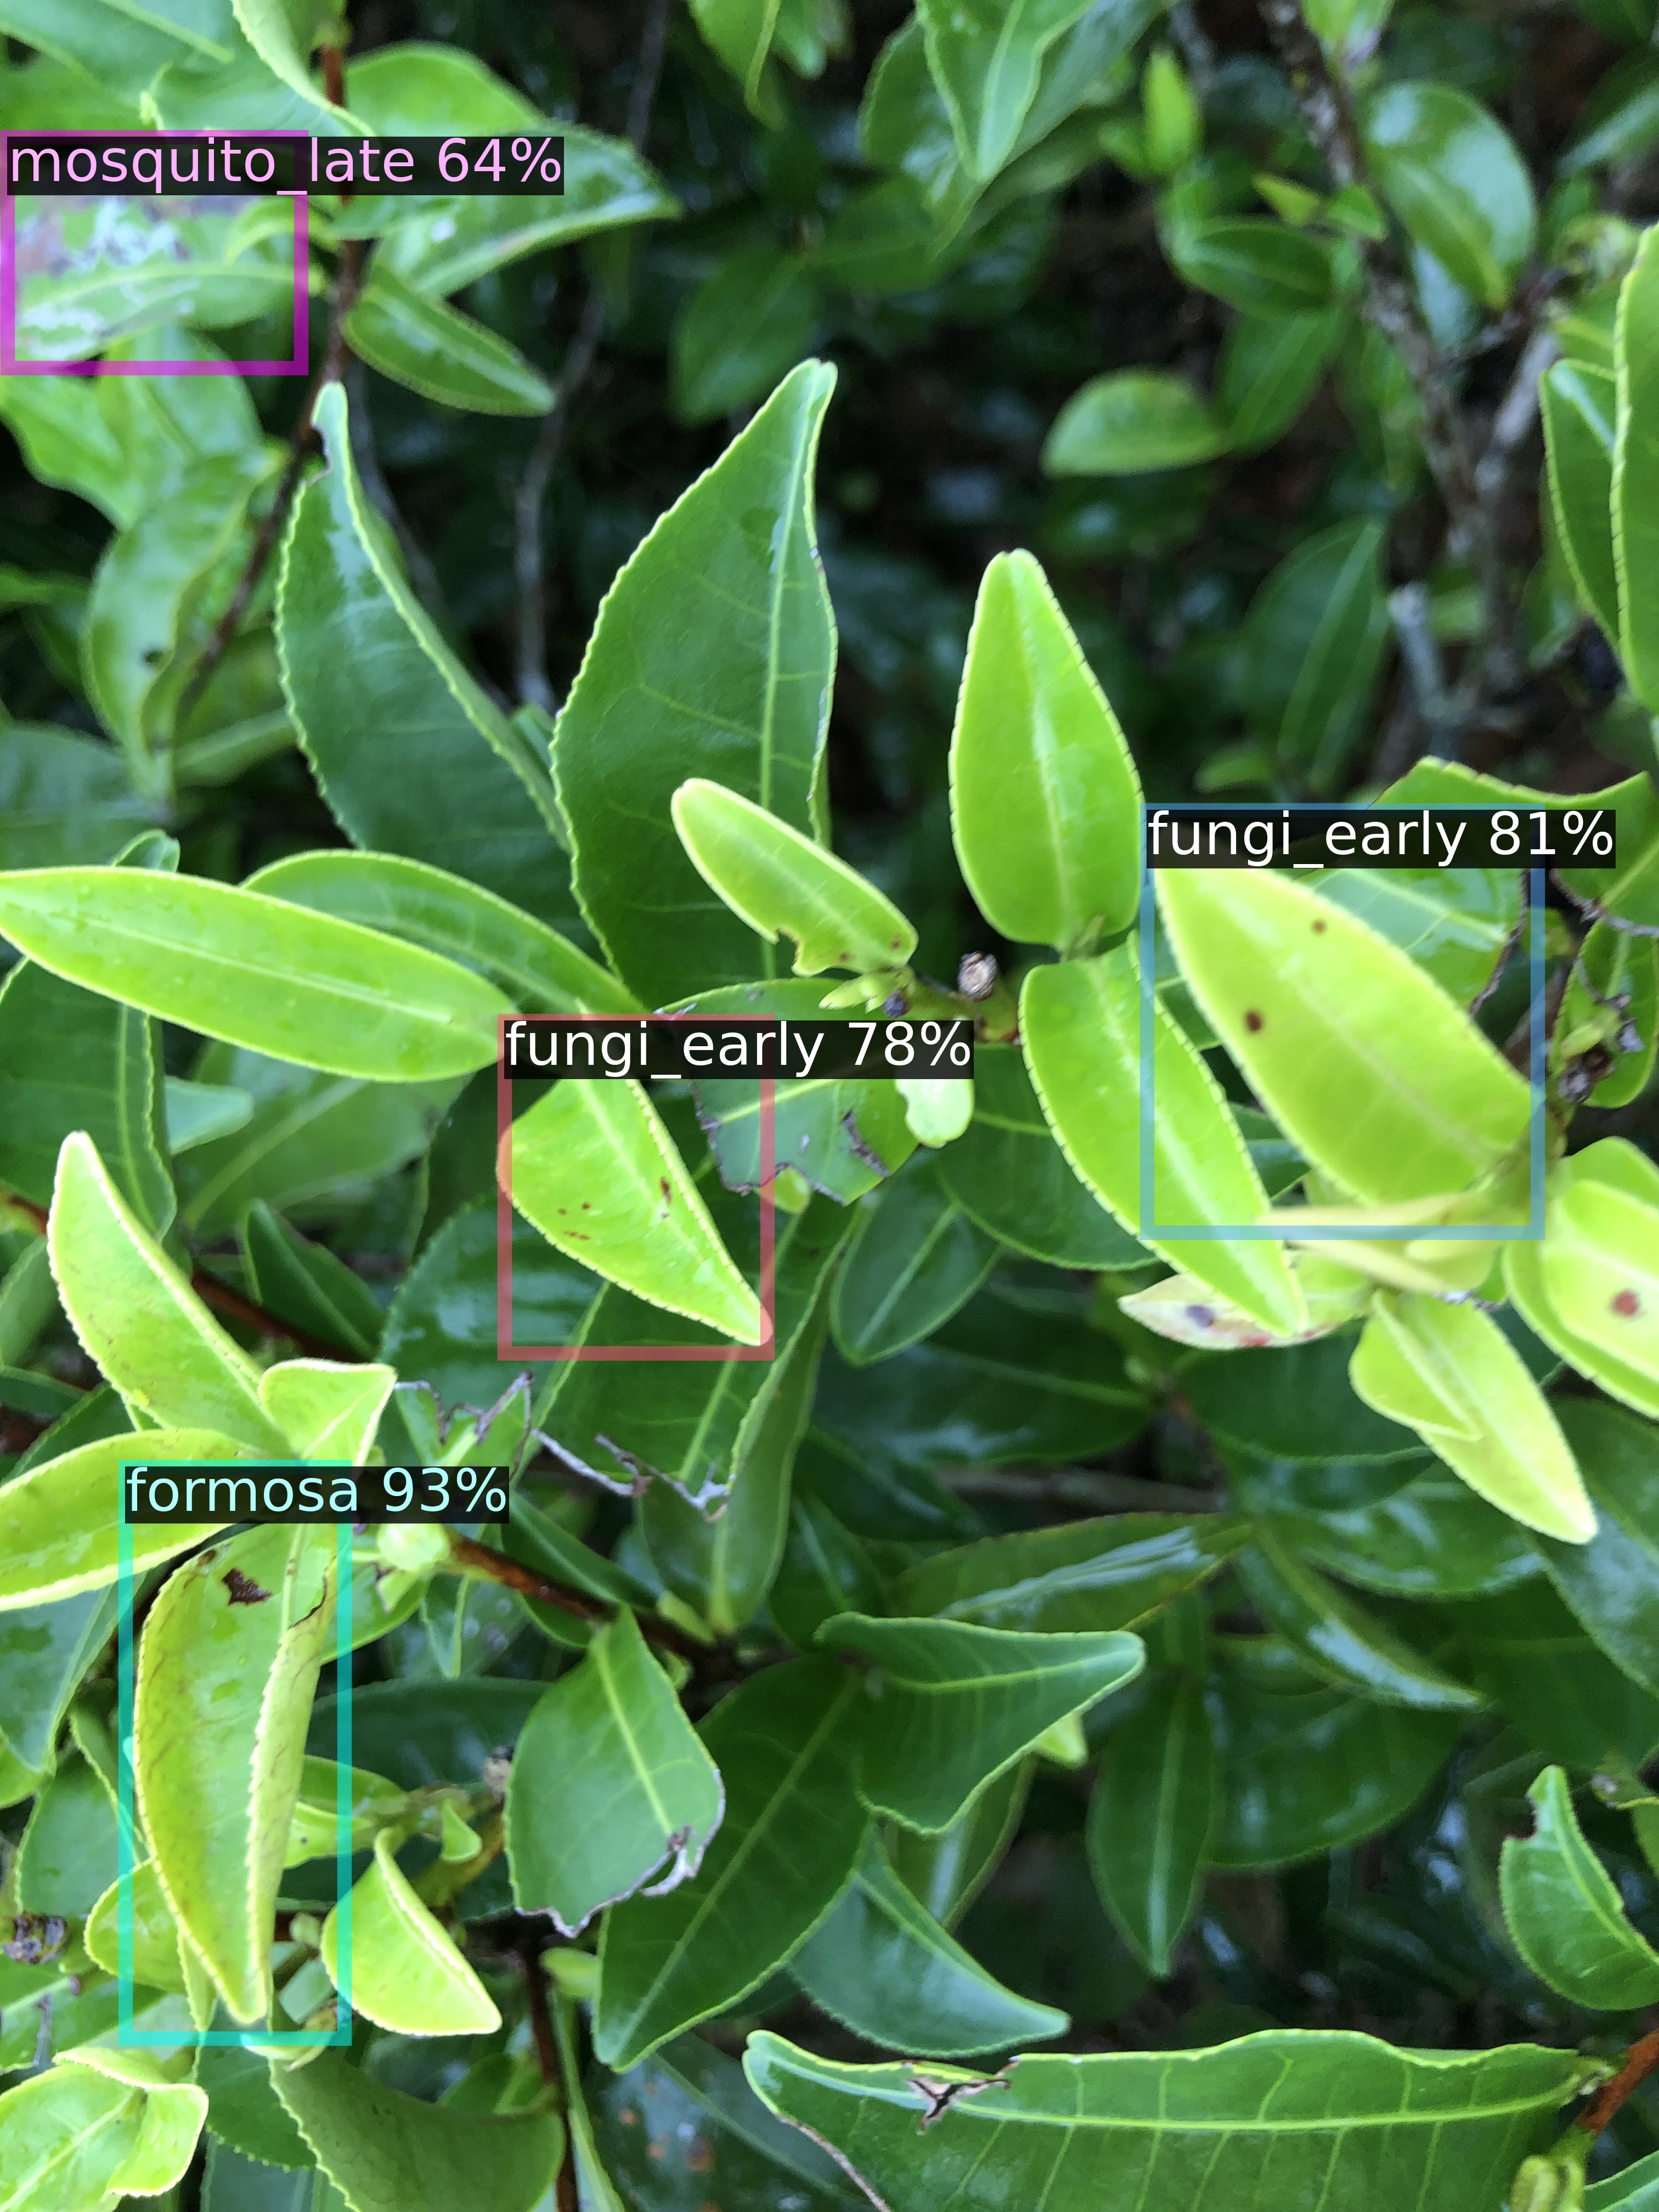formosa: (125, 1467, 343, 2038)
fungi_early: (1147, 810, 1537, 1231), (505, 1021, 767, 1353)
mosquito_late: (7, 138, 301, 368)
